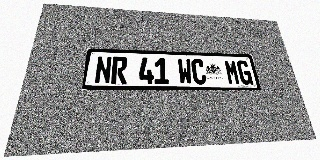1: (154, 58, 169, 84)
4: (139, 57, 154, 84)
C: (191, 59, 207, 85)
G: (236, 60, 254, 85)
M: (224, 60, 241, 85)
N: (94, 56, 112, 84)
R: (111, 56, 127, 84)
W: (177, 58, 193, 84)
